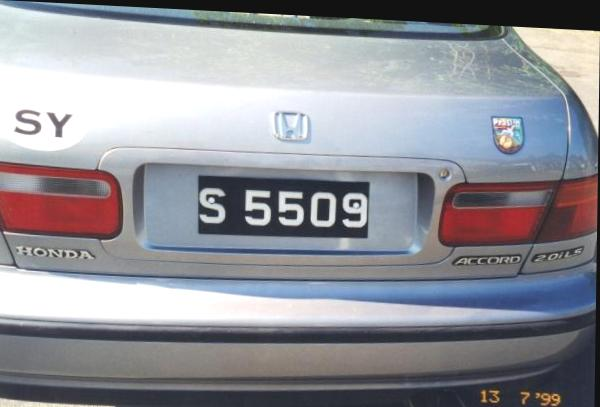License_Plate: (190, 164, 375, 254)
